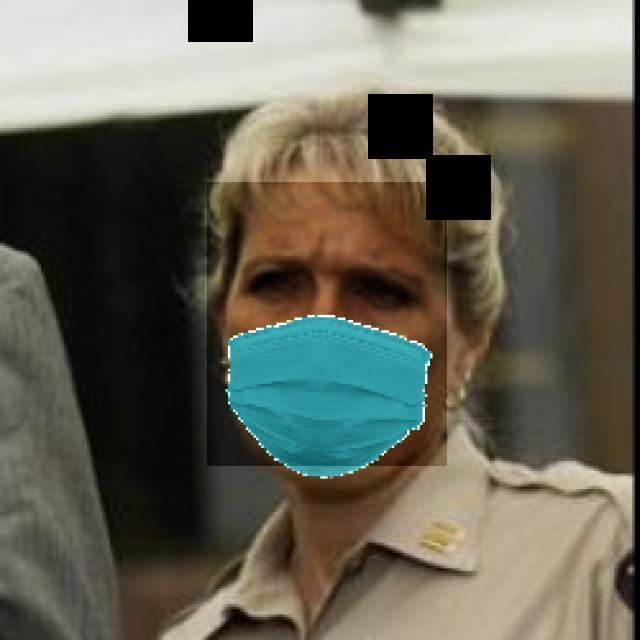surgical: (207, 182, 447, 466)
